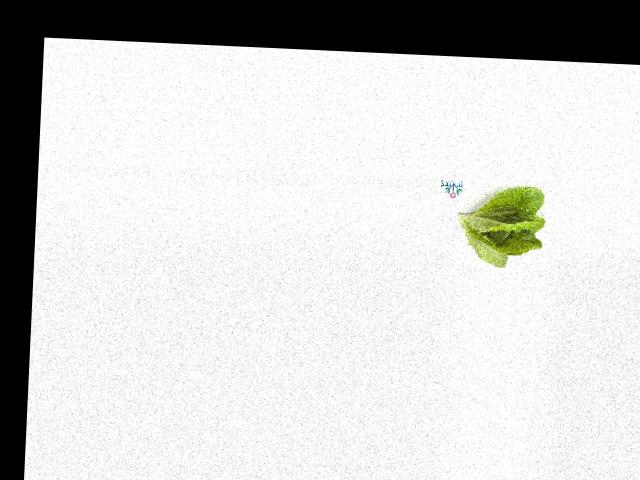lettuce: (454, 185, 549, 271)
